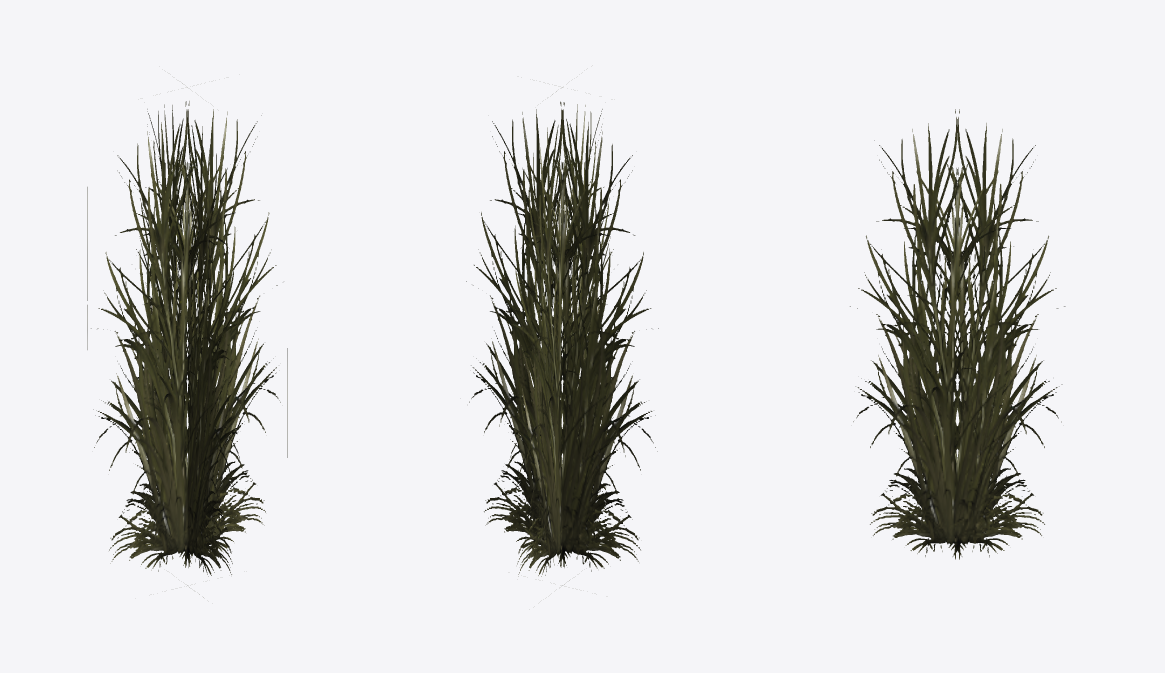
File: grass_01.FBX
3 renders of one model, left to right at view 1: azimuth 30°, elevation 25°; view 2: azimuth 150°, elevation 25°; view 3: azimuth 270°, elevation 25°, orthographic. The views are drawn at different scales.
Visible parts, largest first — view 1: Box001, Box002; view 2: Box001, Box002; view 3: Box002.
Boxes of the visible parts, x1=… form: Box001: x1=91, y1=101, x2=280, y2=571; Box002: x1=87, y1=83, x2=287, y2=597; Box001: x1=466, y1=101, x2=658, y2=571; Box002: x1=507, y1=91, x2=616, y2=584; Box002: x1=850, y1=109, x2=1065, y2=559.
Bounding box in the file's own units: 203 × 279 × 203.
Materials: 1 (1 with a texture image).
